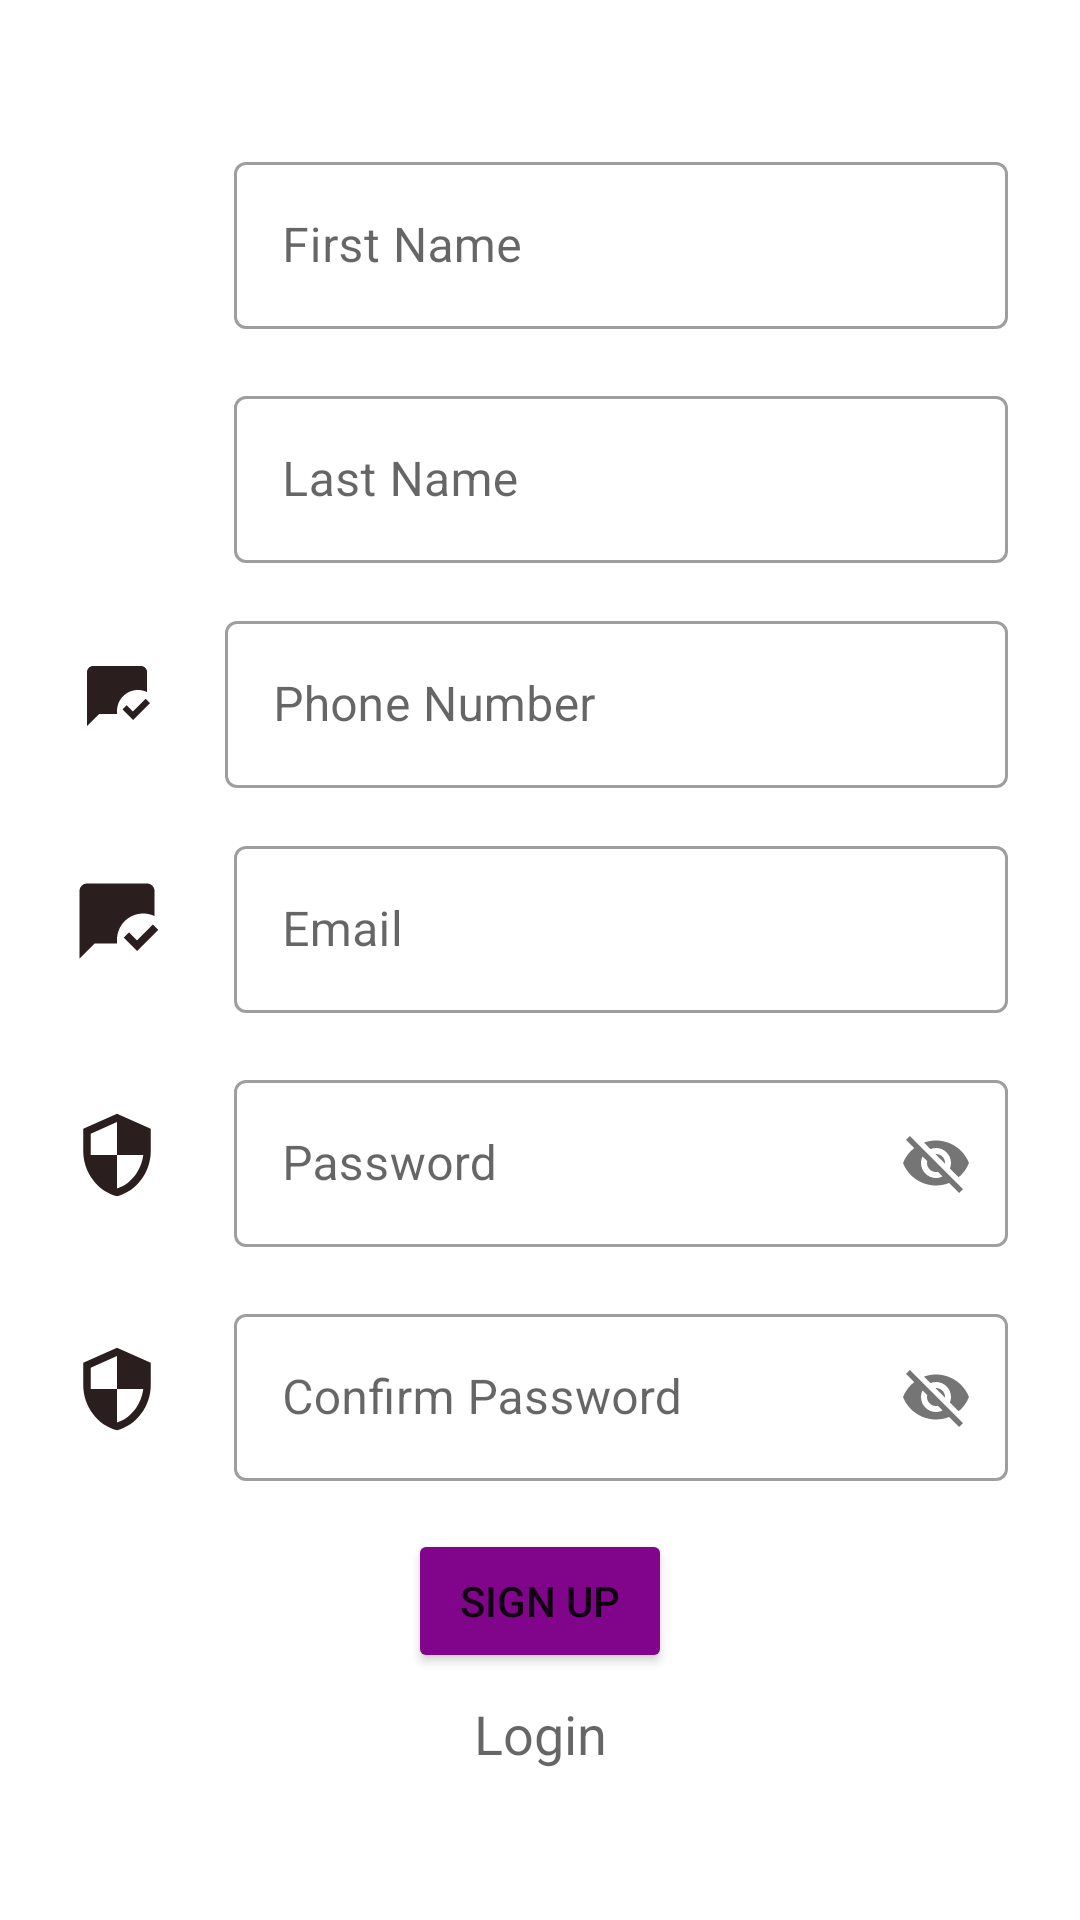

Screen size 1080×1920. Icon name, then its center in pixels as (x,y):
mark chat read: (118,696), (118,921)
security: (117,1155), (117,1389)
